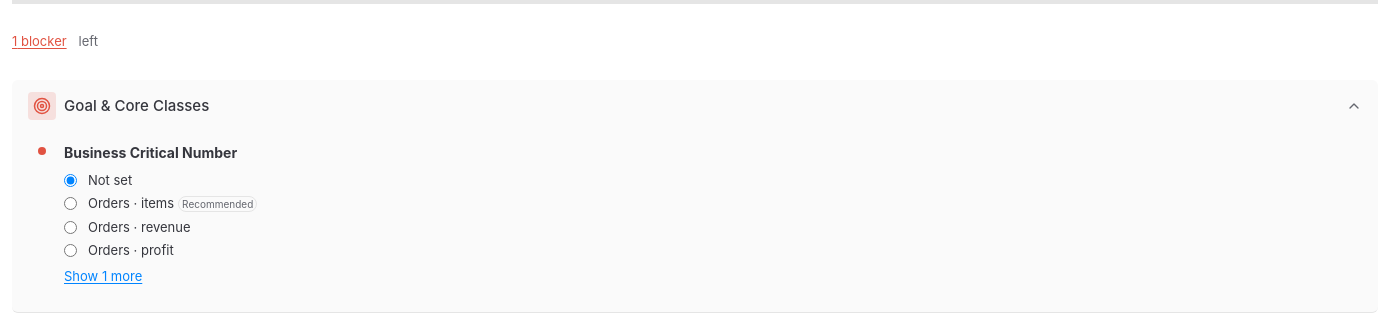
Test: an unset row is a radio group: Not set checked, the recommended option first and tagged, the rest behind Show more
The image size is (1378, 330).
Expected: the radio button labelled "Not set" is checked, top-left (64, 174), bottom-right (77, 186)
Expected: the radio button labelled "tax" is not shown
Click the button "Show 1 more". click: click(103, 276)
box: top-left (64, 266), bottom-right (142, 286)
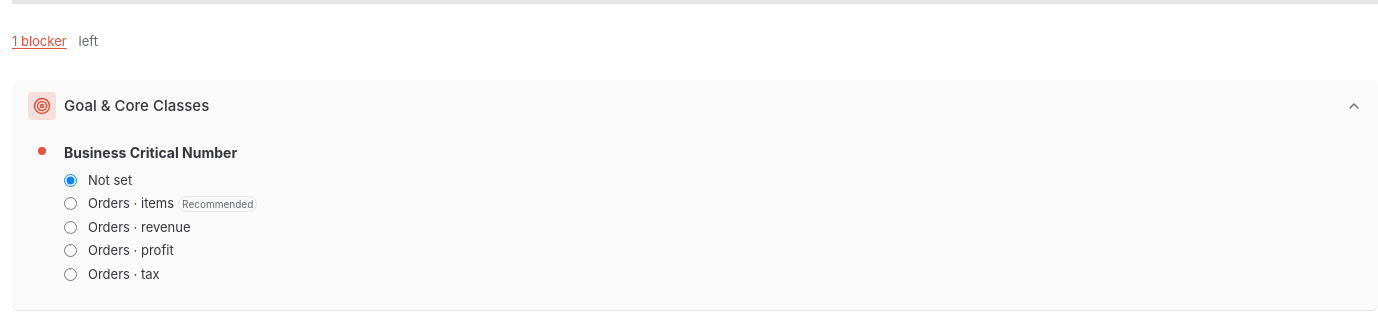
Now the radio button labelled "Orders · tax" is shown, box top-left (64, 268), bottom-right (77, 280)
Now the button "Show 1 more" is gone
